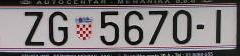-: (196, 23, 207, 32)
0: (172, 9, 192, 45)
1: (213, 9, 225, 46)
5: (99, 9, 120, 45)
6: (124, 10, 143, 45)
7: (148, 9, 169, 45)
G: (49, 12, 70, 46)
Z: (23, 10, 46, 48)
